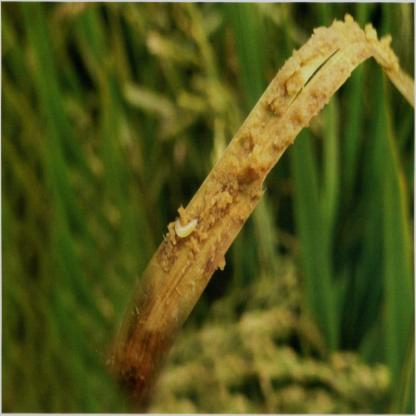whorl-maggot: (168, 211, 204, 240)
